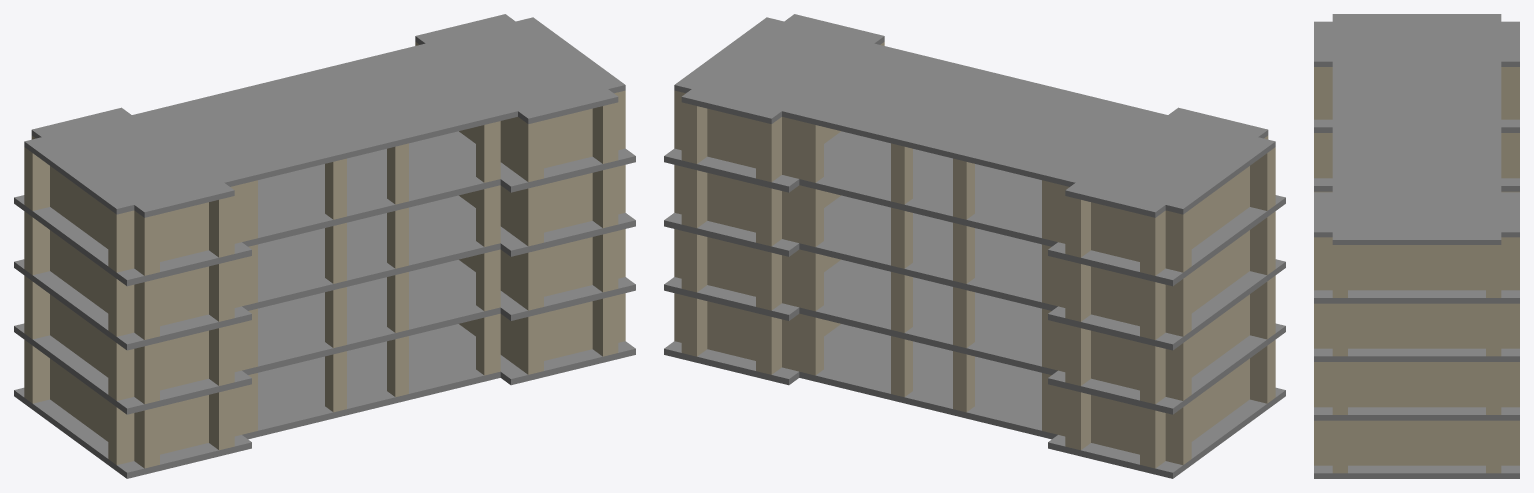
File: construction.fbx
The picture shows the model from 3 angles, left to right: view 1: azimuth 30°, elevation 25°; view 2: azimuth 150°, elevation 25°; view 3: azimuth 270°, elevation 25°; orthographic projection. The views are drawn at different scales.
Visible parts, largest first — view 1: Cube; view 2: Cube; view 3: Cube.
Boxes of the visible parts, x1,y1,x2,y2 form: Cube: (14, 14, 635, 478); Cube: (664, 14, 1285, 478); Cube: (1314, 14, 1519, 478).
Bounding box in the file's own units: 3386 × 1669 × 1303.
